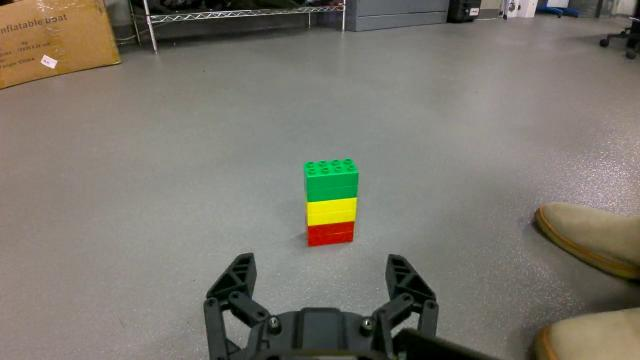lego: (302, 158, 360, 247)
